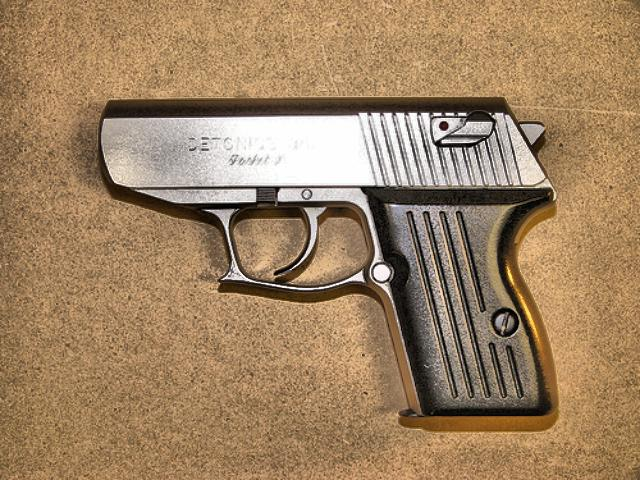pistol: (100, 95, 556, 417)
